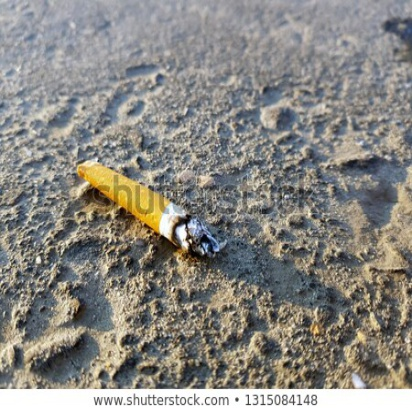cigarette: (74, 153, 232, 264)
